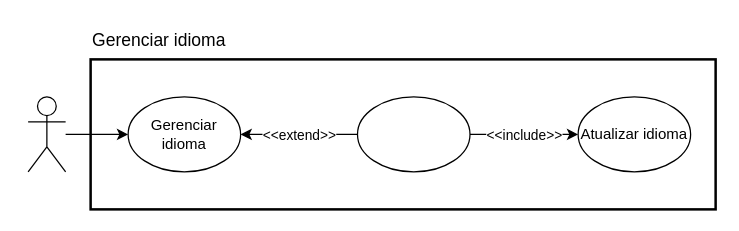
Image size: 739x231. Some labels were removed from this diagram. Here are the shapes that lost their labels. From the top down, the centre of each, then its label:
At point (46, 134): "Usuário".
At point (413, 134): "Escolher idioma".
